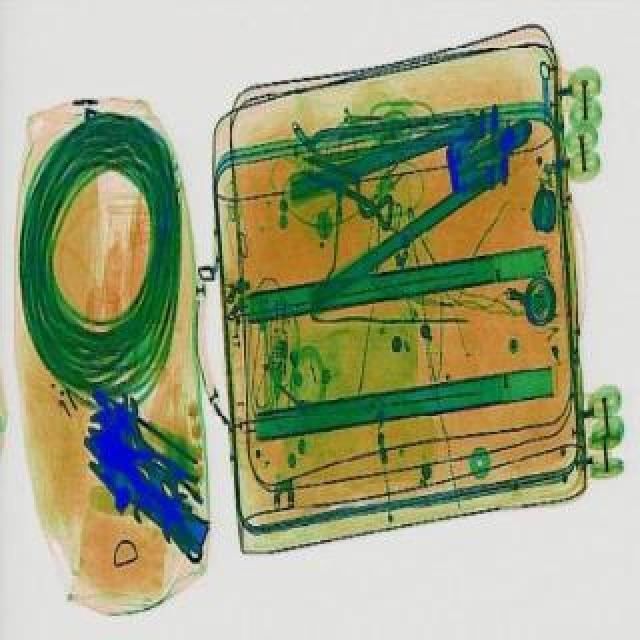scissors: (78, 400, 214, 564)
wrench: (74, 404, 200, 510)
